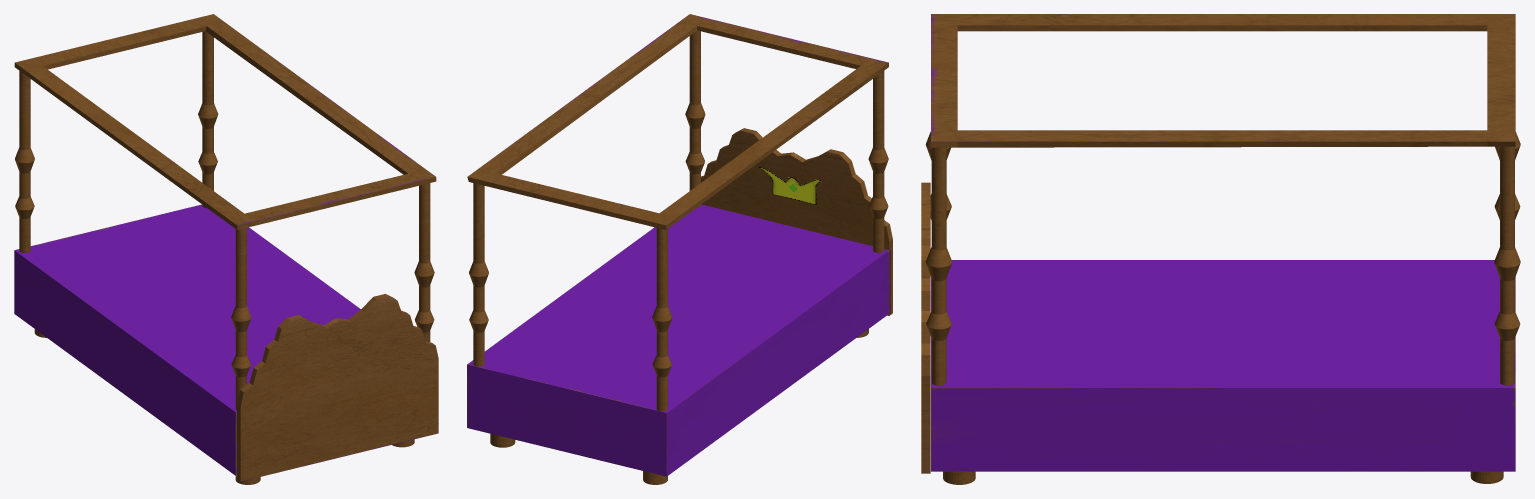
Rendered from Bett_Prinzessin.fbx.
3 views of the same model, side by side, from view 1: azimuth 30°, elevation 25°; view 2: azimuth 150°, elevation 25°; view 3: azimuth 270°, elevation 25° (orthographic). The views are drawn at different scales.
Parts seen in each view (by area): view 1: Cube; view 2: Cube; view 3: Cube.
Boxes of the visible parts, x1=… form: Cube: x1=14, y1=14, x2=438, y2=484; Cube: x1=467, y1=14, x2=892, y2=484; Cube: x1=921, y1=14, x2=1520, y2=484.
Bounding box in the file's own units: 104 × 133 × 205.
